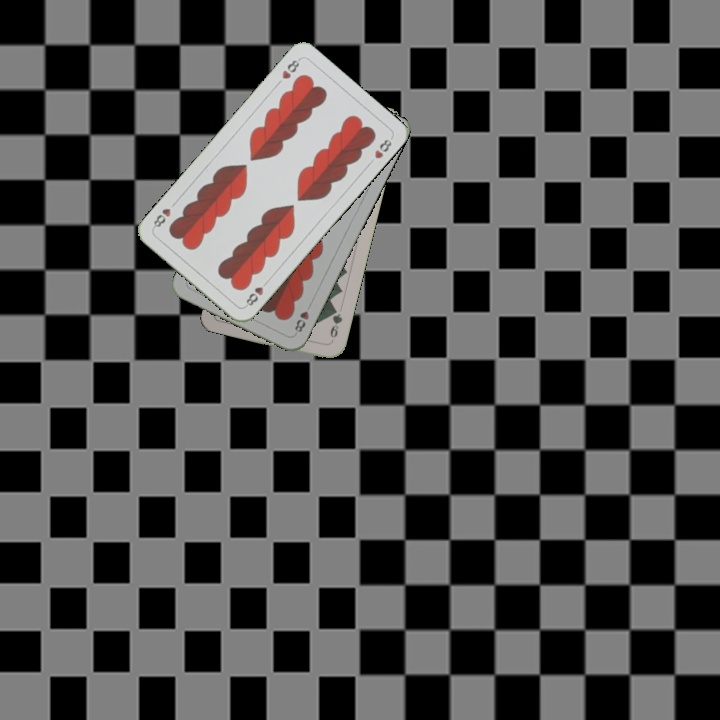G9: (326, 304, 345, 345)
H8: (241, 276, 271, 310), (290, 299, 314, 335), (278, 54, 303, 82)
